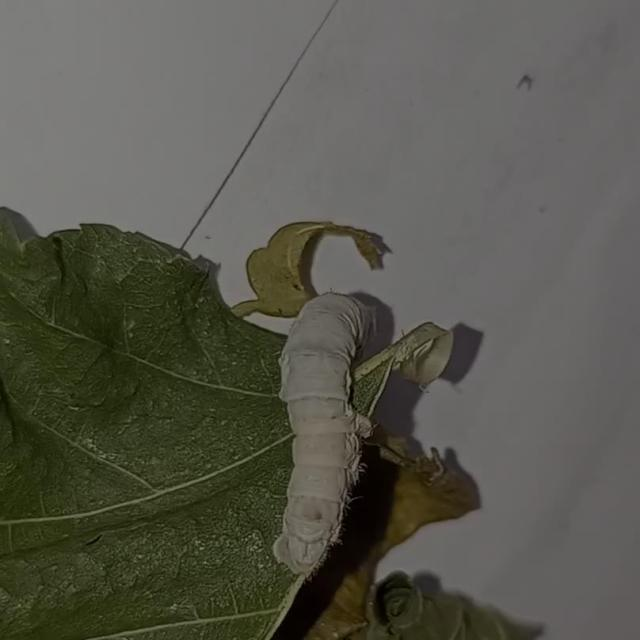Healthy: (260, 274, 392, 586)
